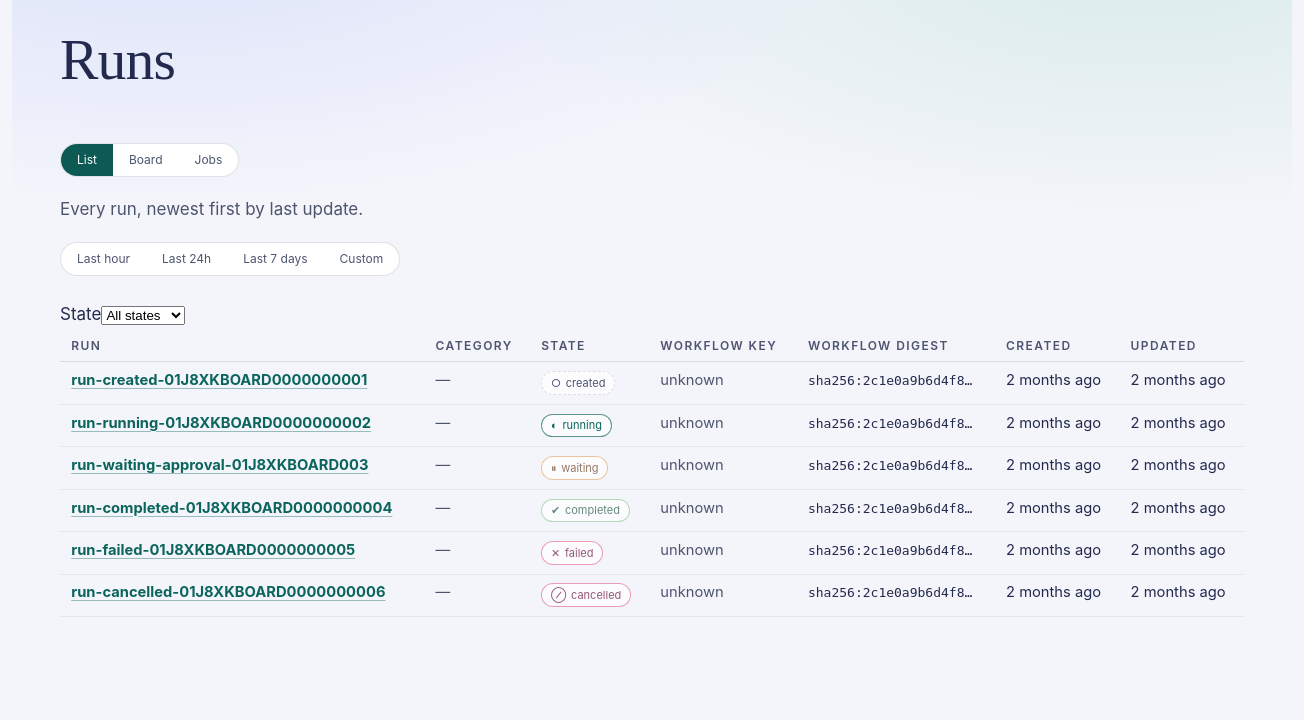
it: Runs projection toggle › puts the chosen projection in the URL, so it can be bookmarked and shared
The image size is (1304, 720).
Click the button "Board" at (146, 160), box x1=113 y1=144 x2=179 y2=176
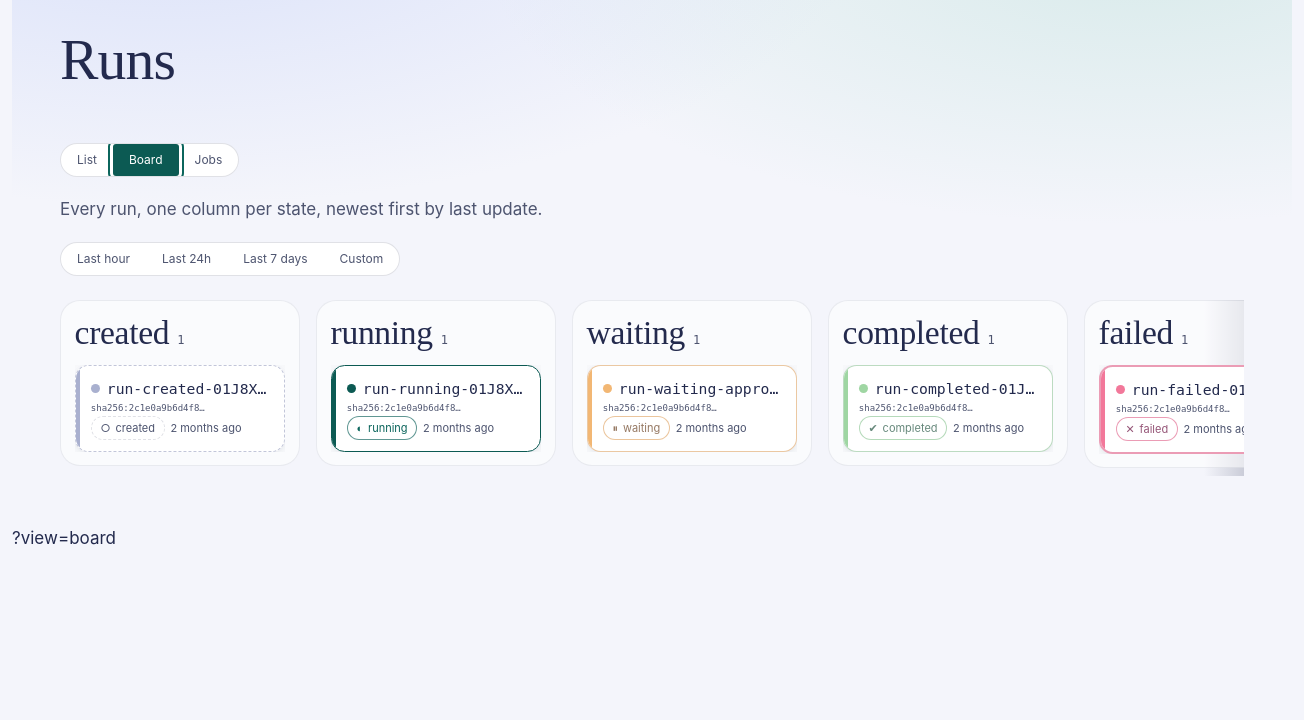
Check: the text with test id "location" shows "view=board", box x1=12 y1=528 x2=116 y2=548
Check: the element with id "runs-board-columns" is shown, box x1=60 y1=300 x2=1244 y2=476
